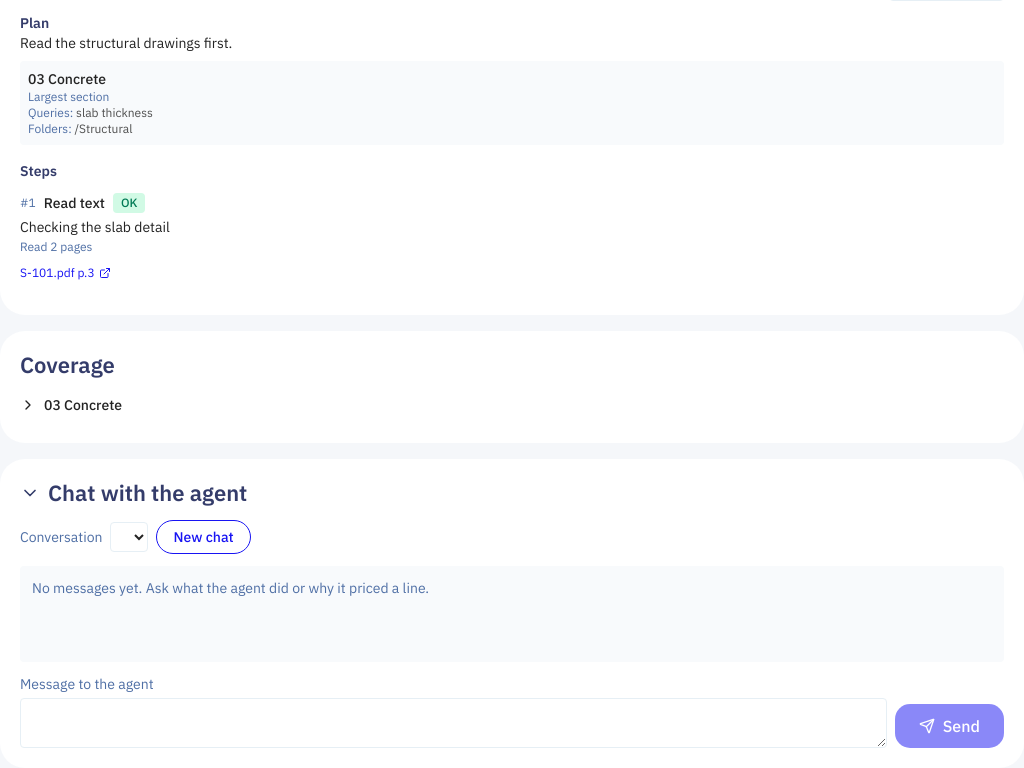
AgentTab › chat › collapses
(page scrolled)
Step 1. Click the button "Chat with the agent" → [134, 494], box [20,479,247,508]
(page scrolled)
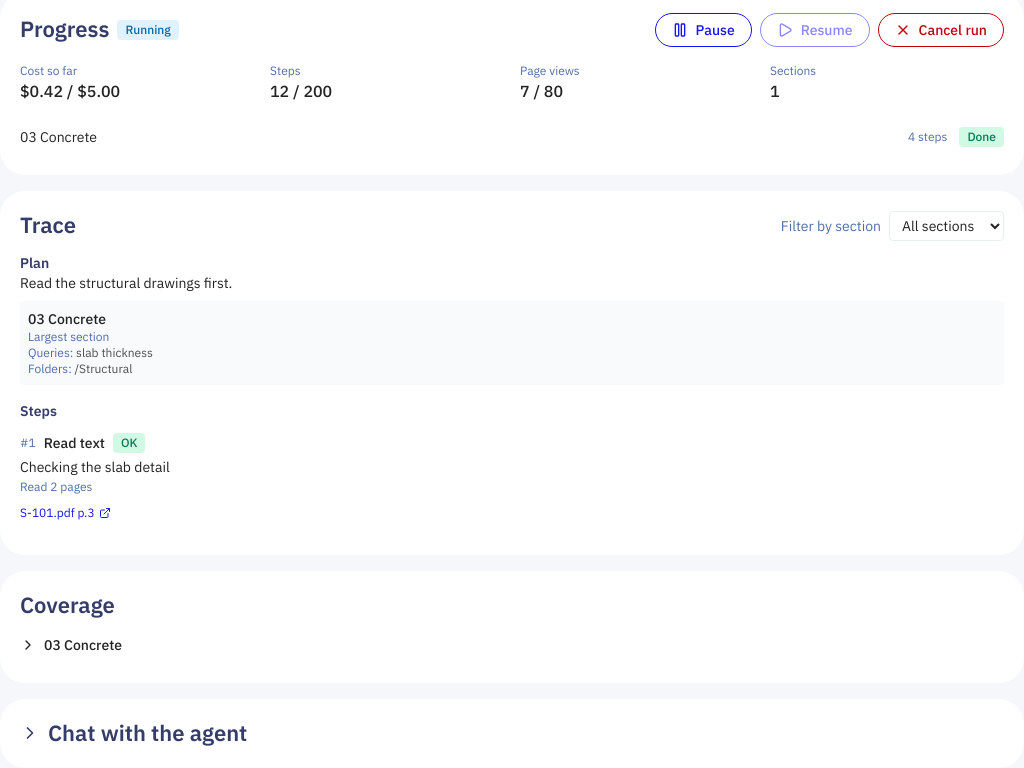
Now the button "Chat with the agent" is collapsed, box [20,719,247,748]
Now the label labelled "Message to the agent" is gone
